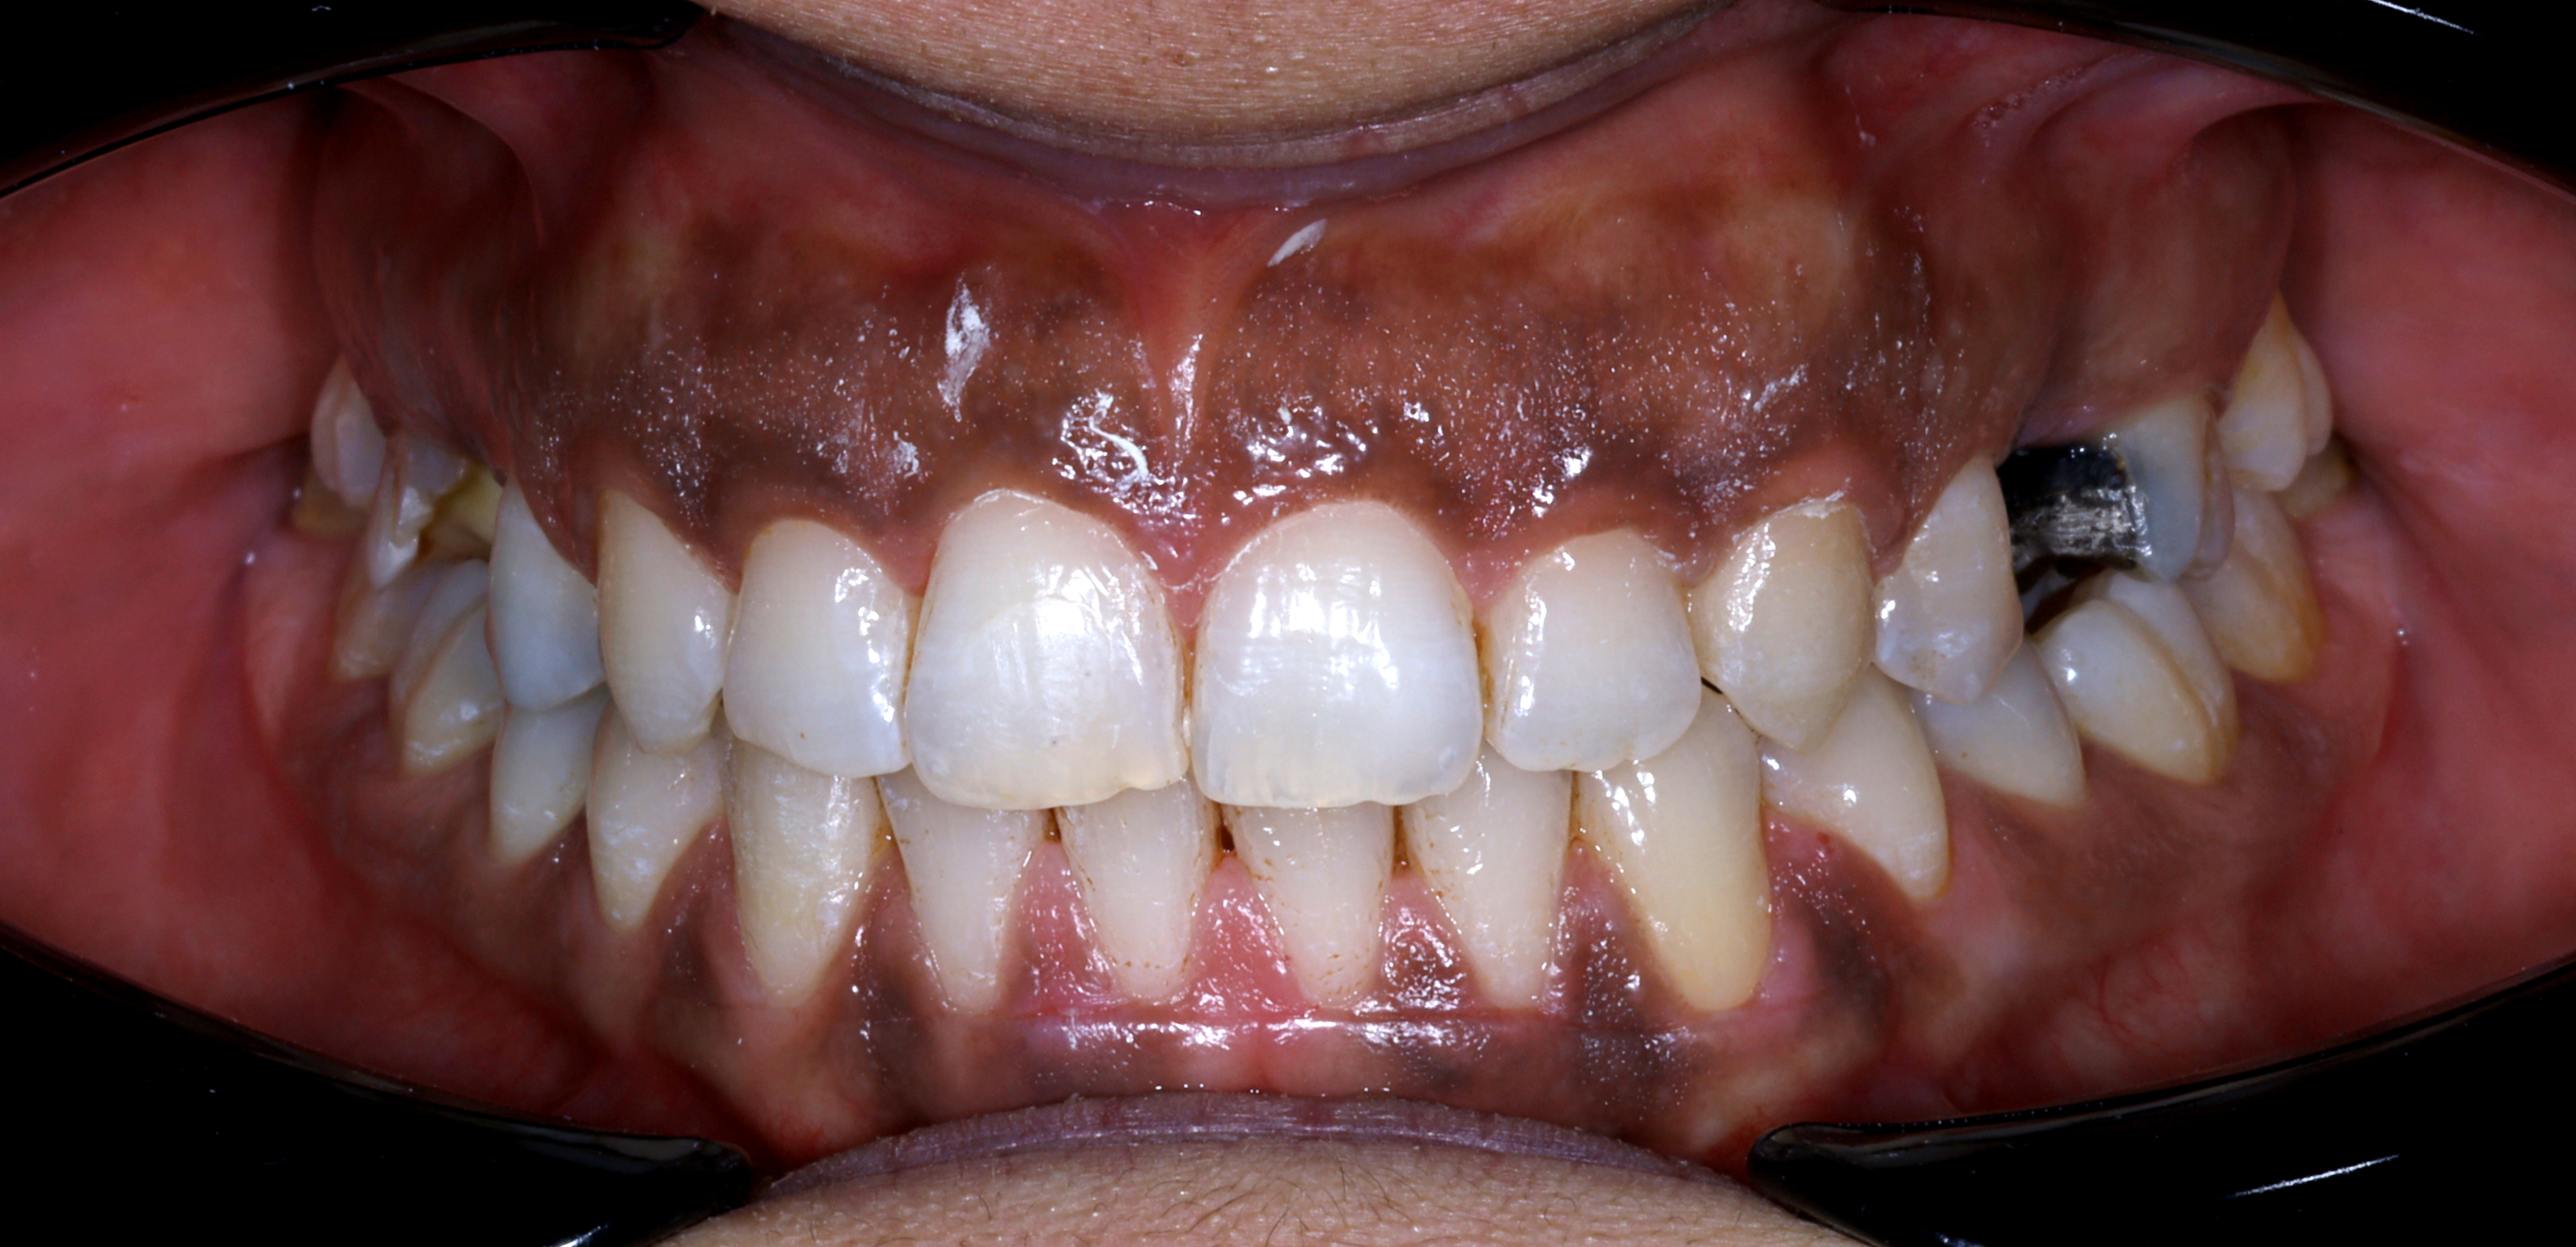LL1BC_mdecay: (1771, 726, 1952, 918)
LL1M_mdecay: (2065, 611, 2231, 777)
LL2BC_mdecay: (1937, 692, 2081, 802)
LL2M_mdecay: (2196, 544, 2326, 680)
LLCI_mdecay: (1232, 810, 1395, 1009)
LLC_mdecay: (1584, 728, 1778, 1005)
LLLI_mdecay: (1411, 802, 1574, 994)
LR1BC_mdecay: (595, 713, 710, 925)
LR1M_mdecay: (398, 598, 490, 797)
LR2BC_mdecay: (494, 688, 585, 876)
LRCI_mdecay: (1053, 797, 1217, 991)
LRC_mdecay: (728, 769, 877, 1004)
LRLI_mdecay: (884, 797, 1037, 1005)
UR2BC_sdecay: (371, 440, 496, 591)
